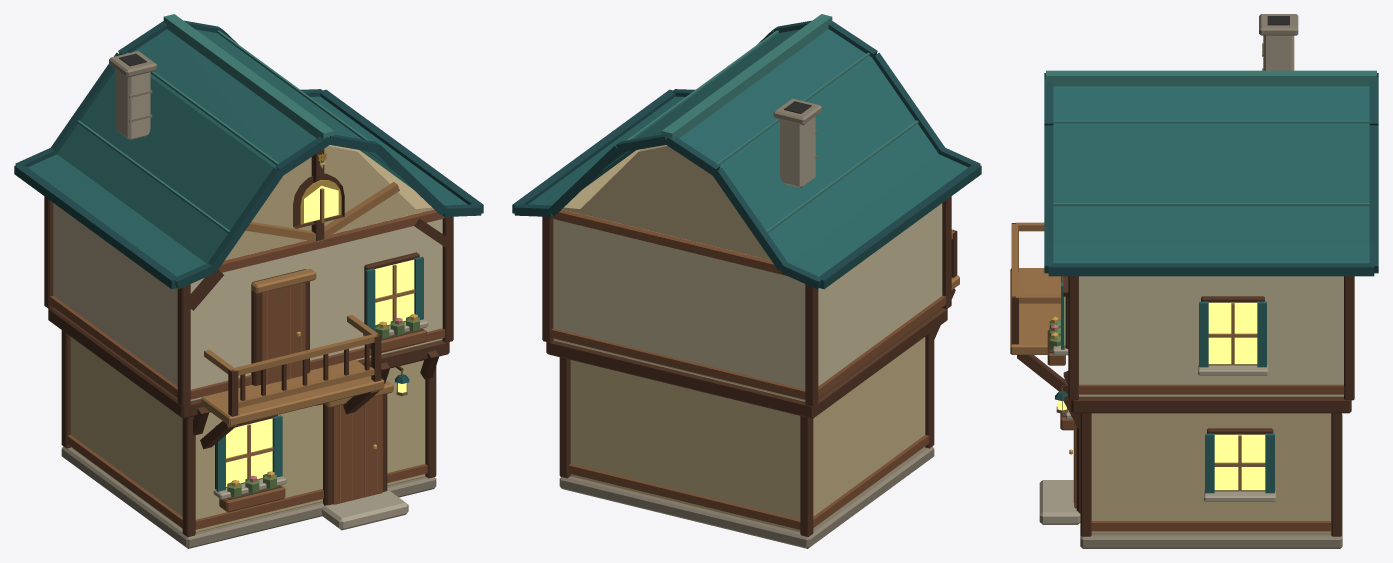
File: house-d.glb
3 views of the same model, side by side, from view 1: azimuth 30°, elevation 25°; view 2: azimuth 150°, elevation 25°; view 3: azimuth 270°, elevation 25° (orthographic). The views are drawn at different scales.
Parts seen in each view (by area): view 1: house-d; view 2: house-d; view 3: house-d.
Part boxes in pixels (x1,y1,x2,y2): house-d: (14, 14, 483, 548); house-d: (512, 14, 981, 548); house-d: (1010, 14, 1378, 548).
Bounding box in the file's own units: 6.92 × 8.7 × 6.84.
